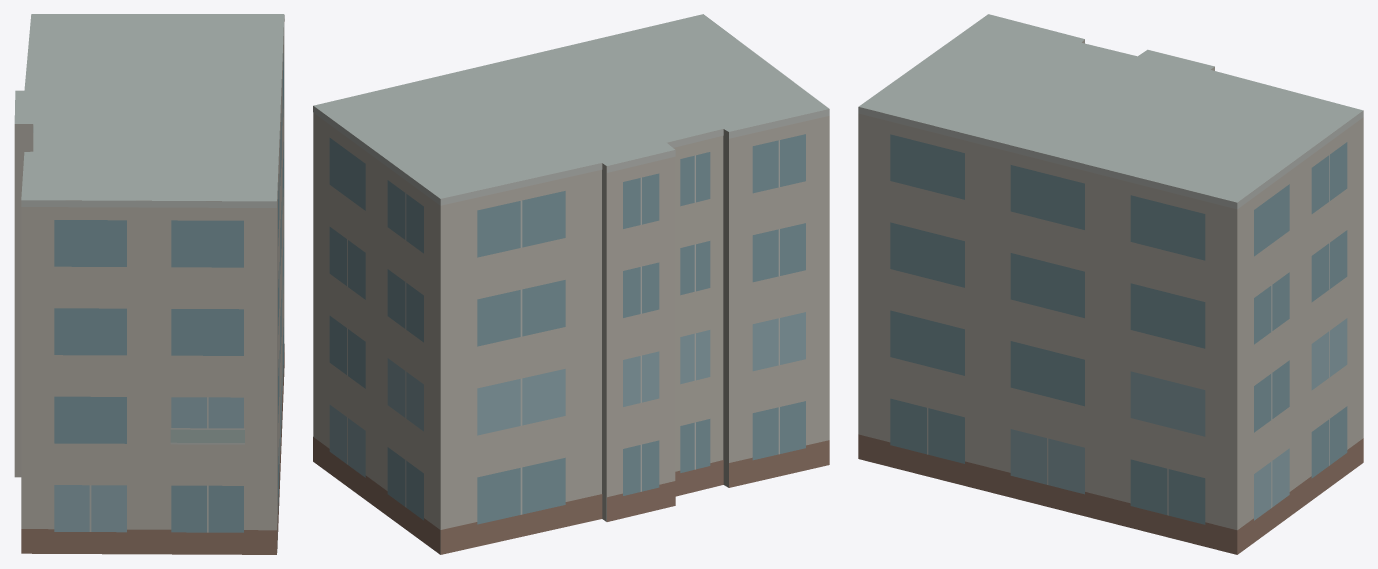
File: survey-upis-32722118.glb
3 views of the same model, side by side, from view 1: azimuth 30°, elevation 25°; view 2: azimuth 150°, elevation 25°; view 3: azimuth 270°, elevation 25° (orthographic).
Parts seen in each view (by area): view 1: survey-upis-32722118.tmp; view 2: survey-upis-32722118.tmp; view 3: survey-upis-32722118.tmp.
Boxes of the visible parts, x1,y1,x2,y2 form: survey-upis-32722118.tmp: (14,14,284,554); survey-upis-32722118.tmp: (313,14,829,554); survey-upis-32722118.tmp: (858,14,1363,554).
Bounding box in the file's own units: 14.65 × 12.75 × 16.58.
